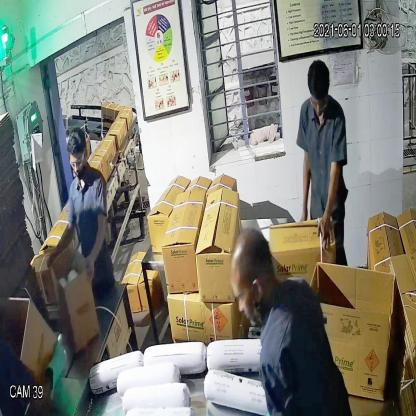goggles: (66, 148, 92, 174)
